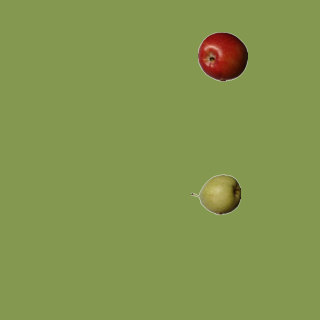Apple Braeburn: (197, 31, 247, 81)
Pear: (190, 169, 240, 219)
